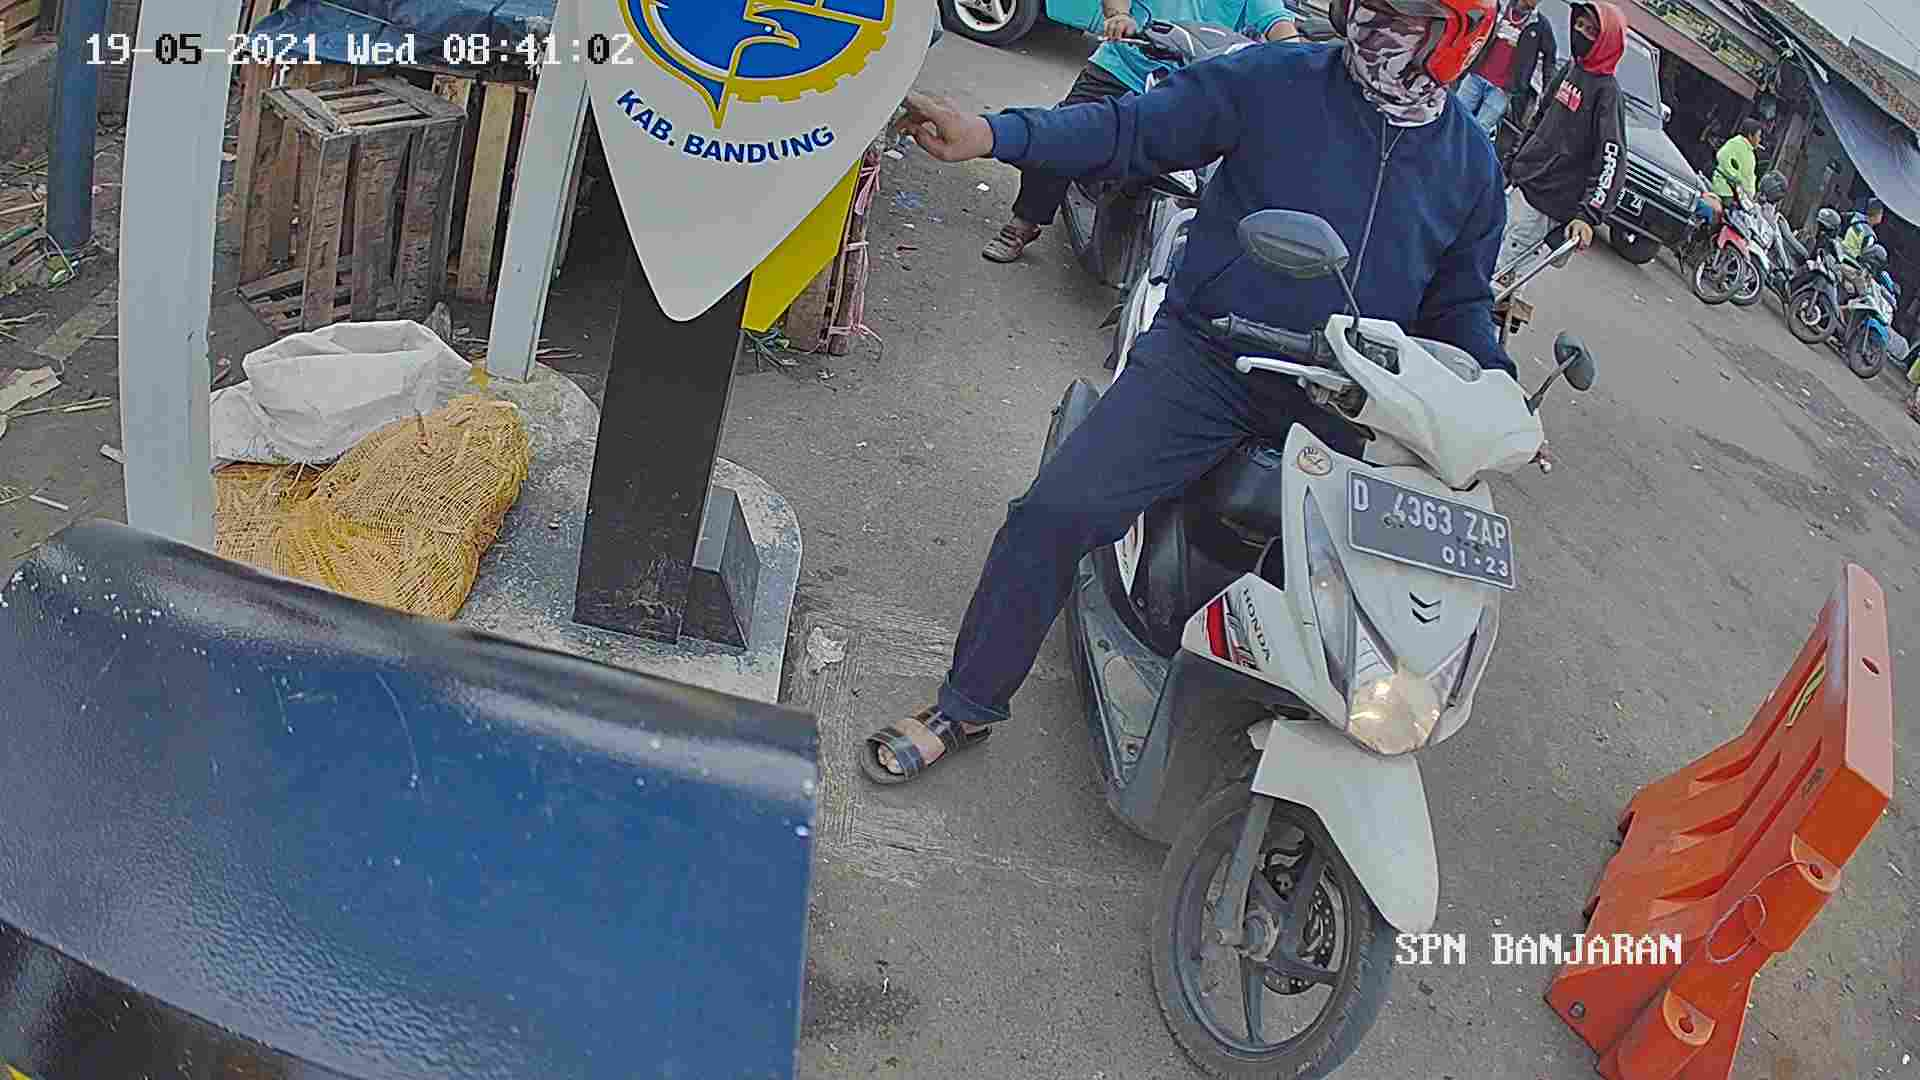motor: (1046, 200, 1543, 1080)
